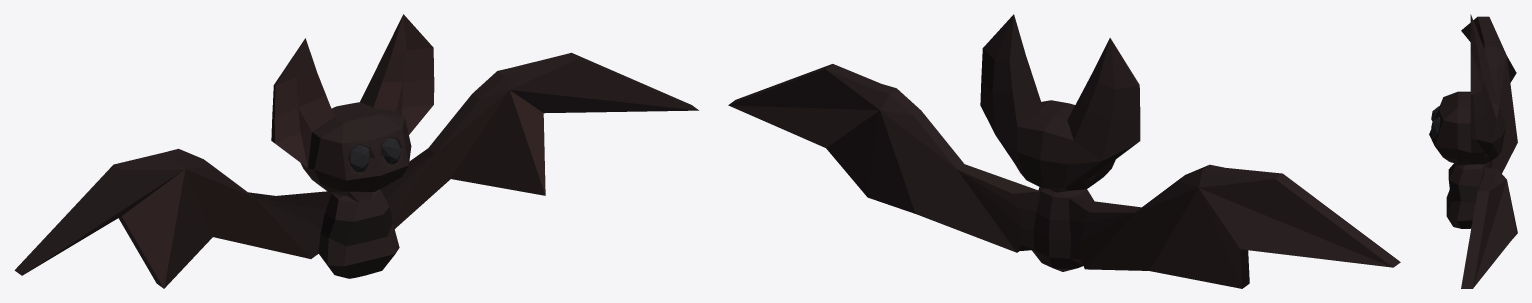
The model's file is WF_LP_HT_Animal_Bat.fbx.
3 views of the same model, side by side, from view 1: azimuth 30°, elevation 25°; view 2: azimuth 150°, elevation 25°; view 3: azimuth 270°, elevation 25° (orthographic). The views are drawn at different scales.
Parts seen in each view (by area): view 1: WF_LP_HT_Animal_Bat; view 2: WF_LP_HT_Animal_Bat; view 3: WF_LP_HT_Animal_Bat.
Boxes of the visible parts, x1,y1,x2,y2 form: WF_LP_HT_Animal_Bat: (14,14,698,288); WF_LP_HT_Animal_Bat: (728,14,1400,288); WF_LP_HT_Animal_Bat: (1429,14,1517,288).
Size of the model in its own units: 0.4647 by 0.1648 by 0.0675.
